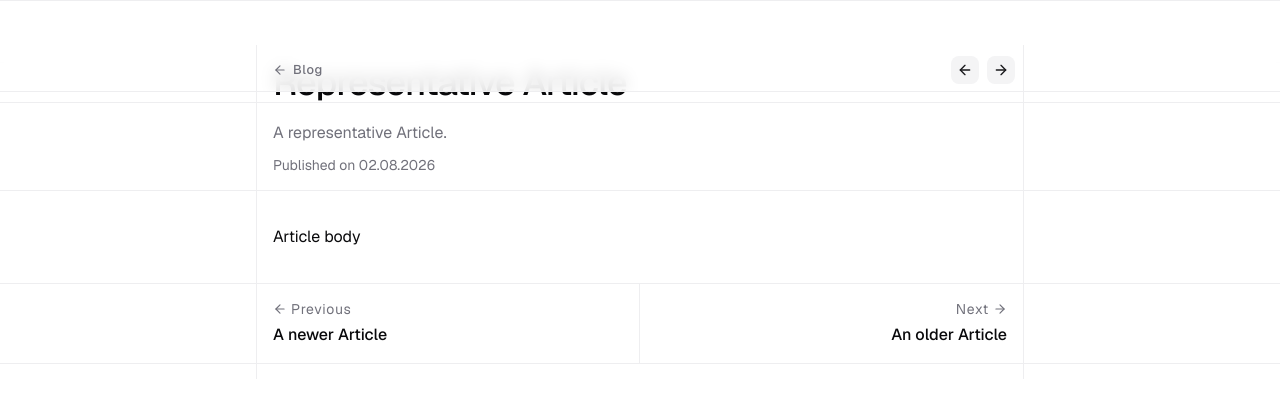
it: Article reader navigation › names the key on the control it belongs to
Step 1. Hover over the link named "Previous Article" → point(965, 70), box 951,56 -> 979,84
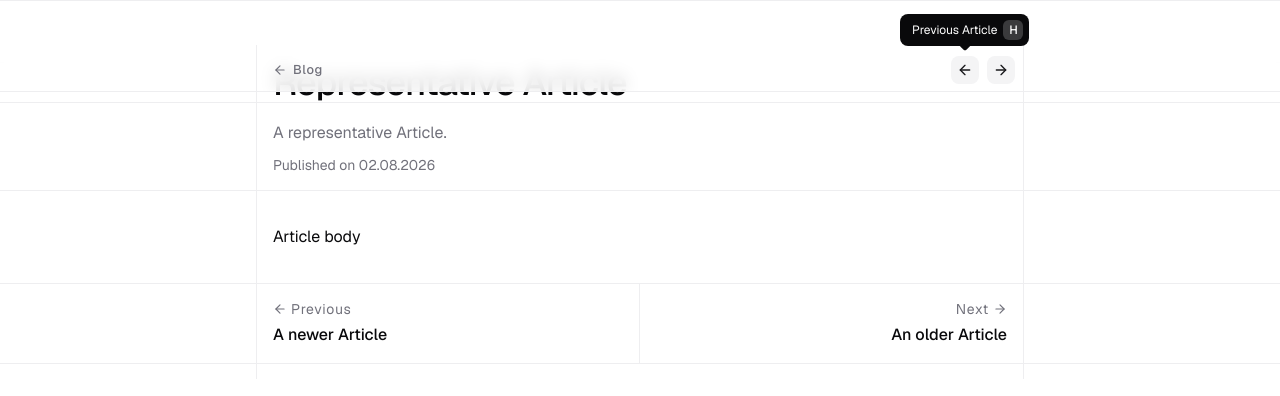
Check: the tooltip reads "Previous Article H", box 900,14 -> 1030,46
